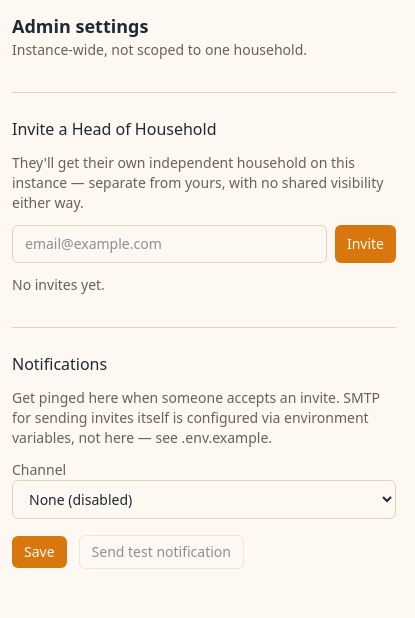
it: AdminSettingsPage › submits a HoH invite and shows the sent notice
Type "newadmin@example.com" into the field with placeholder "email@example.com" at (169, 244), box [12,225,327,263]
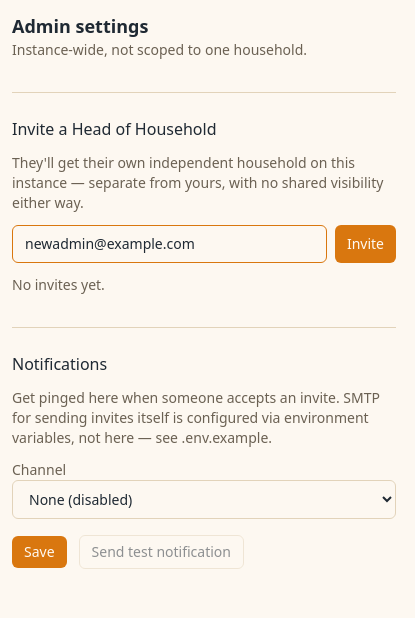
Click the button "Invite" at (365, 244), box [335,225,396,263]
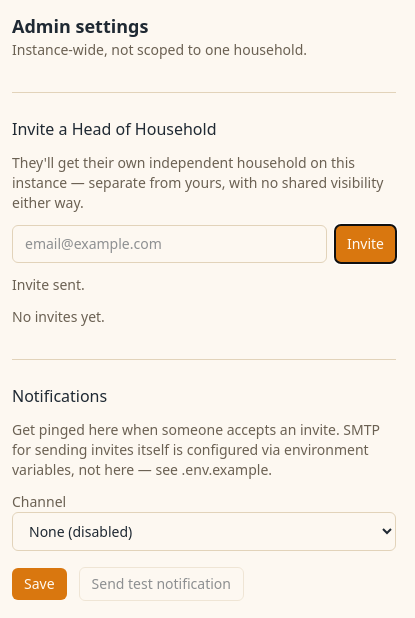
Expected: the text "Invite sent." is shown, [12,275,85,294]
